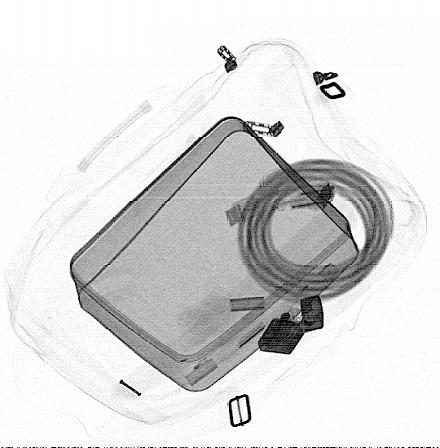Lighter: (257, 294, 324, 355)
